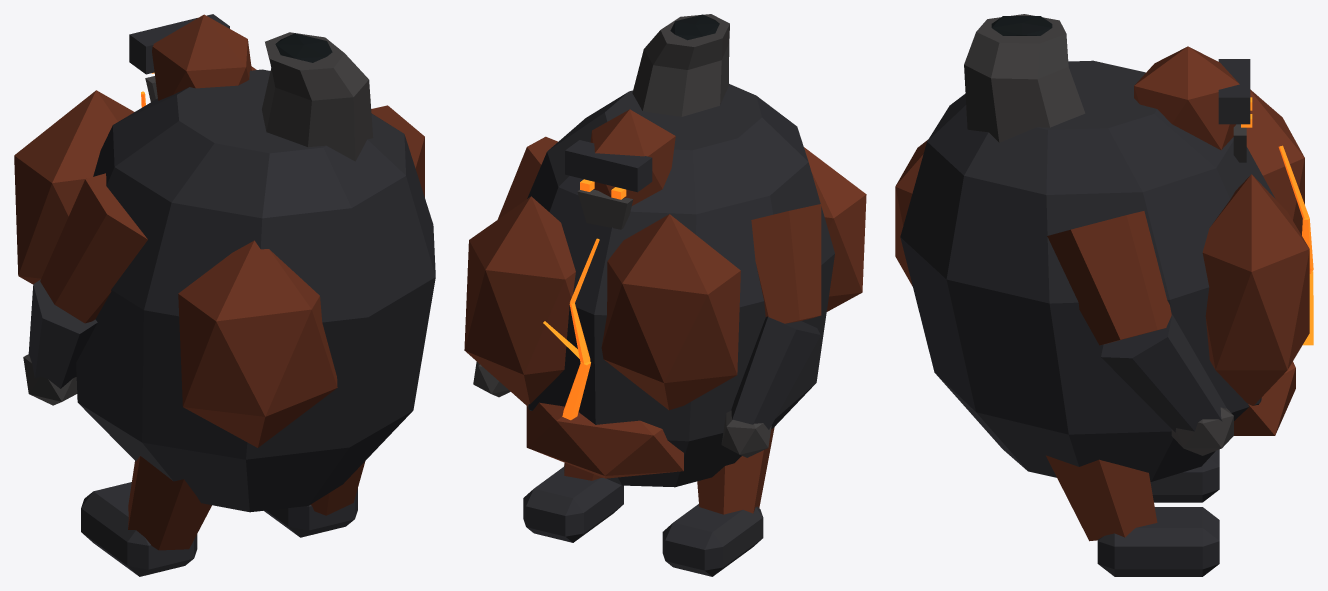
File: magma_bloater.glb
The picture shows the model from 3 angles, left to right: view 1: azimuth 30°, elevation 25°; view 2: azimuth 150°, elevation 25°; view 3: azimuth 270°, elevation 25°; orthographic projection. The views are drawn at different scales.
Parts seen in each view (by area): view 1: magma_bloater; view 2: magma_bloater; view 3: magma_bloater.
Part boxes in pixels (<box>): magma_bloater: <box>14,14,435,576</box>; magma_bloater: <box>464,14,866,576</box>; magma_bloater: <box>895,14,1313,576</box>.
Bounding box in the file's own units: 1 × 1.35 × 1.
